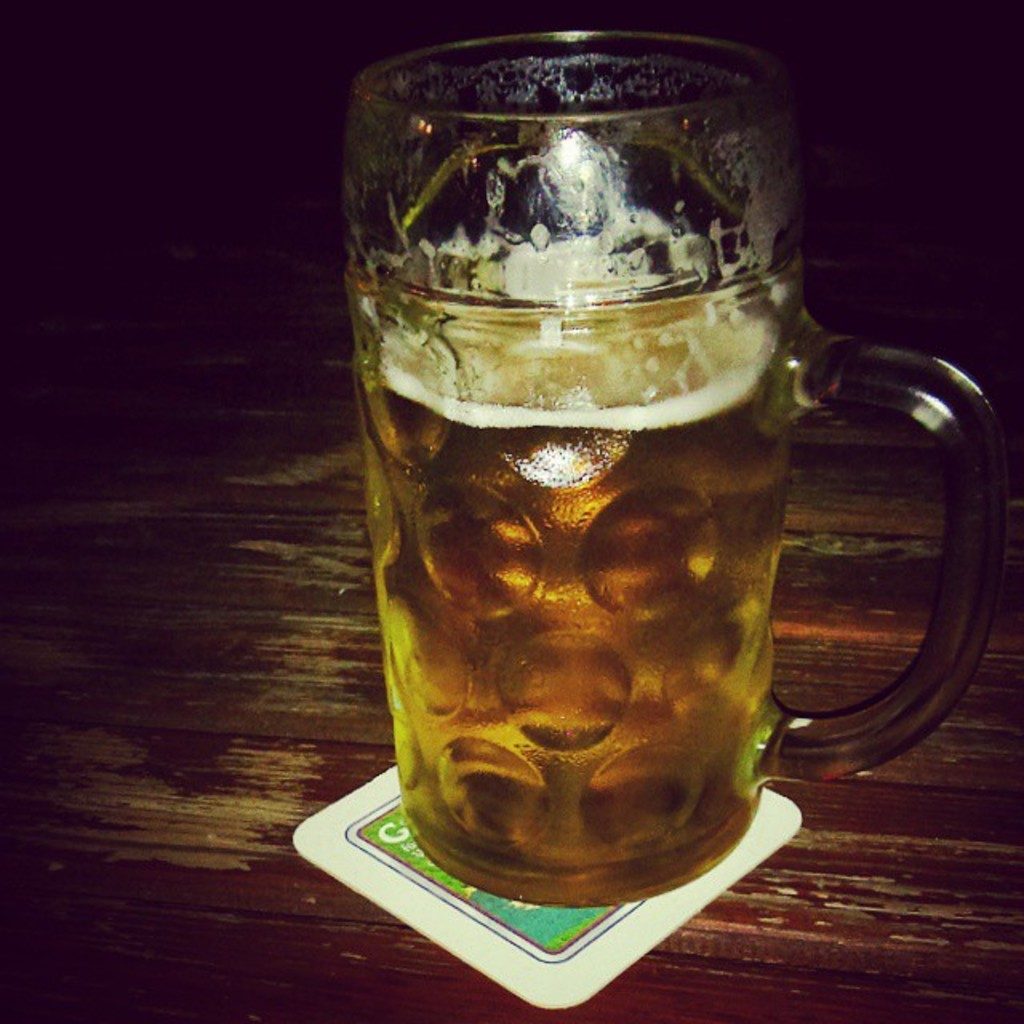Beer: (355, 230, 790, 920)
